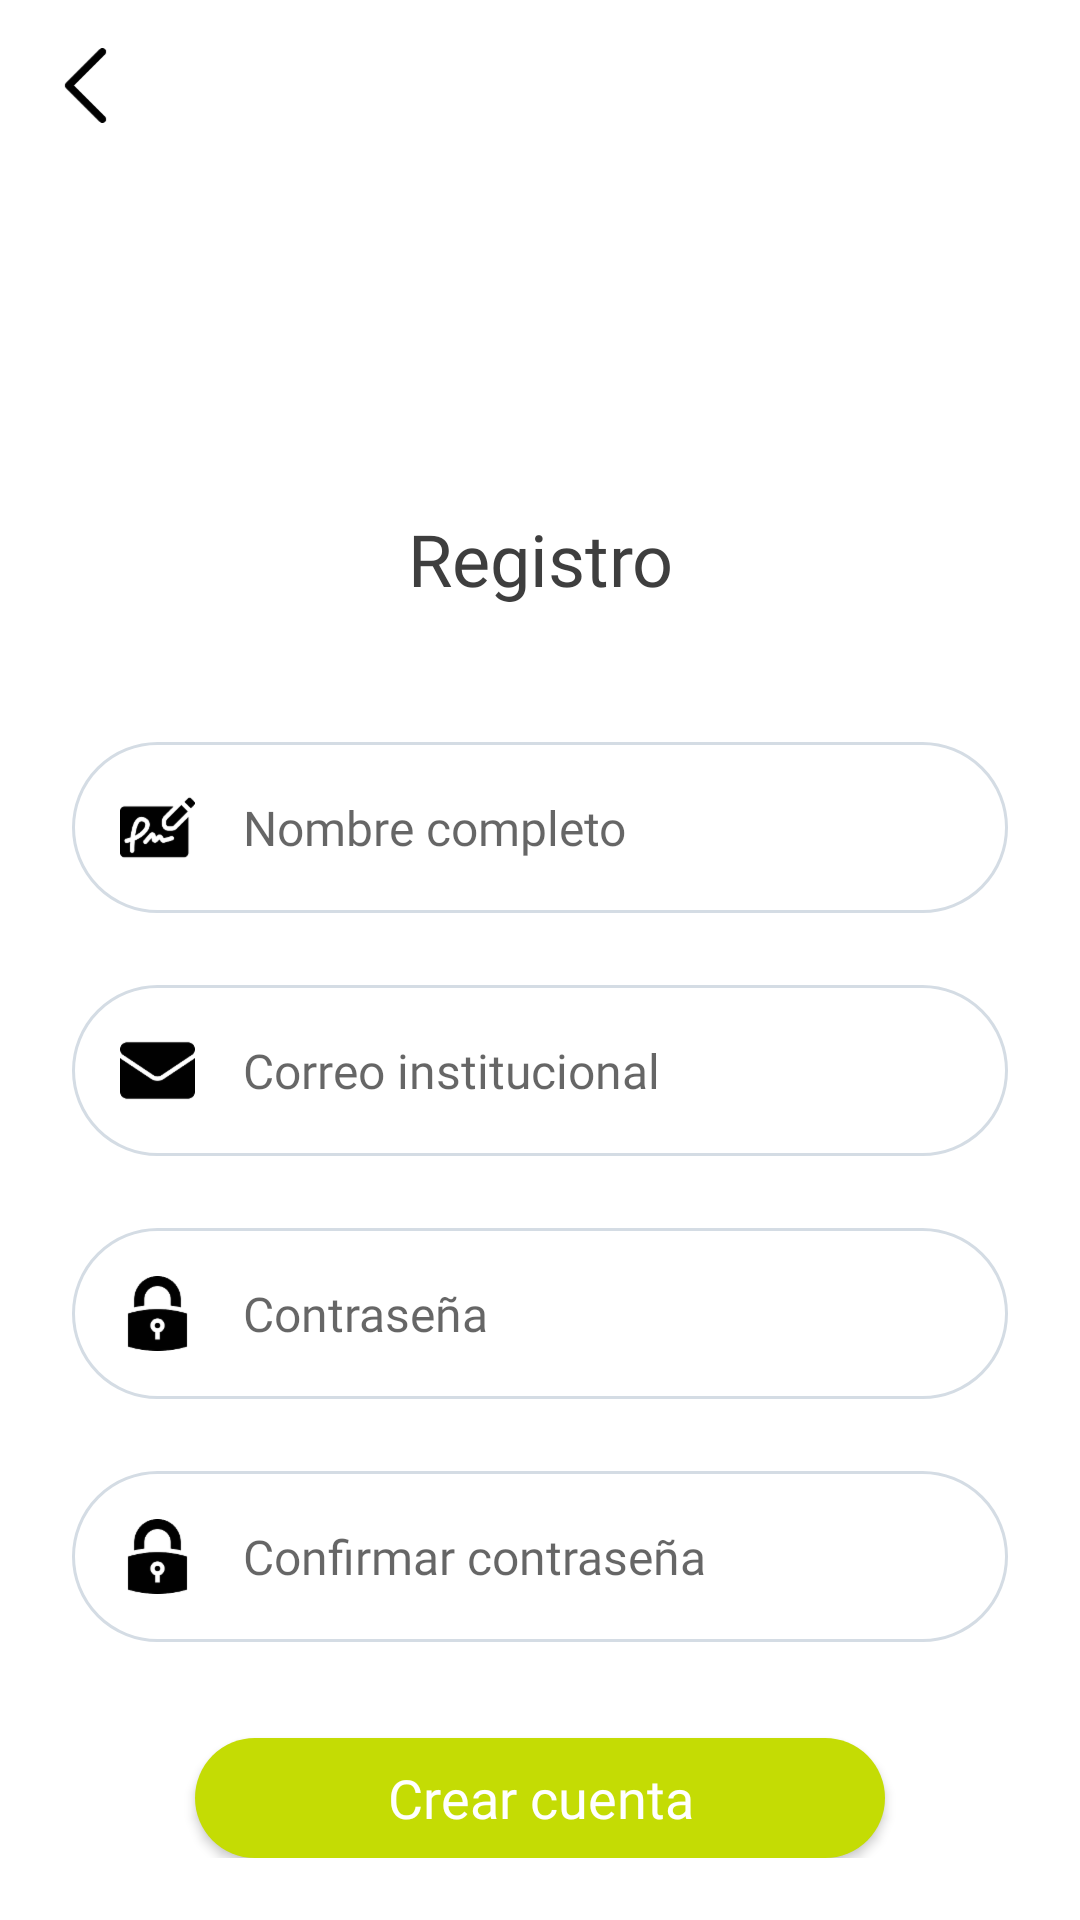

Named icons in this screenshot (1080x1920) and their bounding boxes, [left=x1, top=y1, right=x2, bottom=y2]:
back: [left=64, top=48, right=107, bottom=123]
